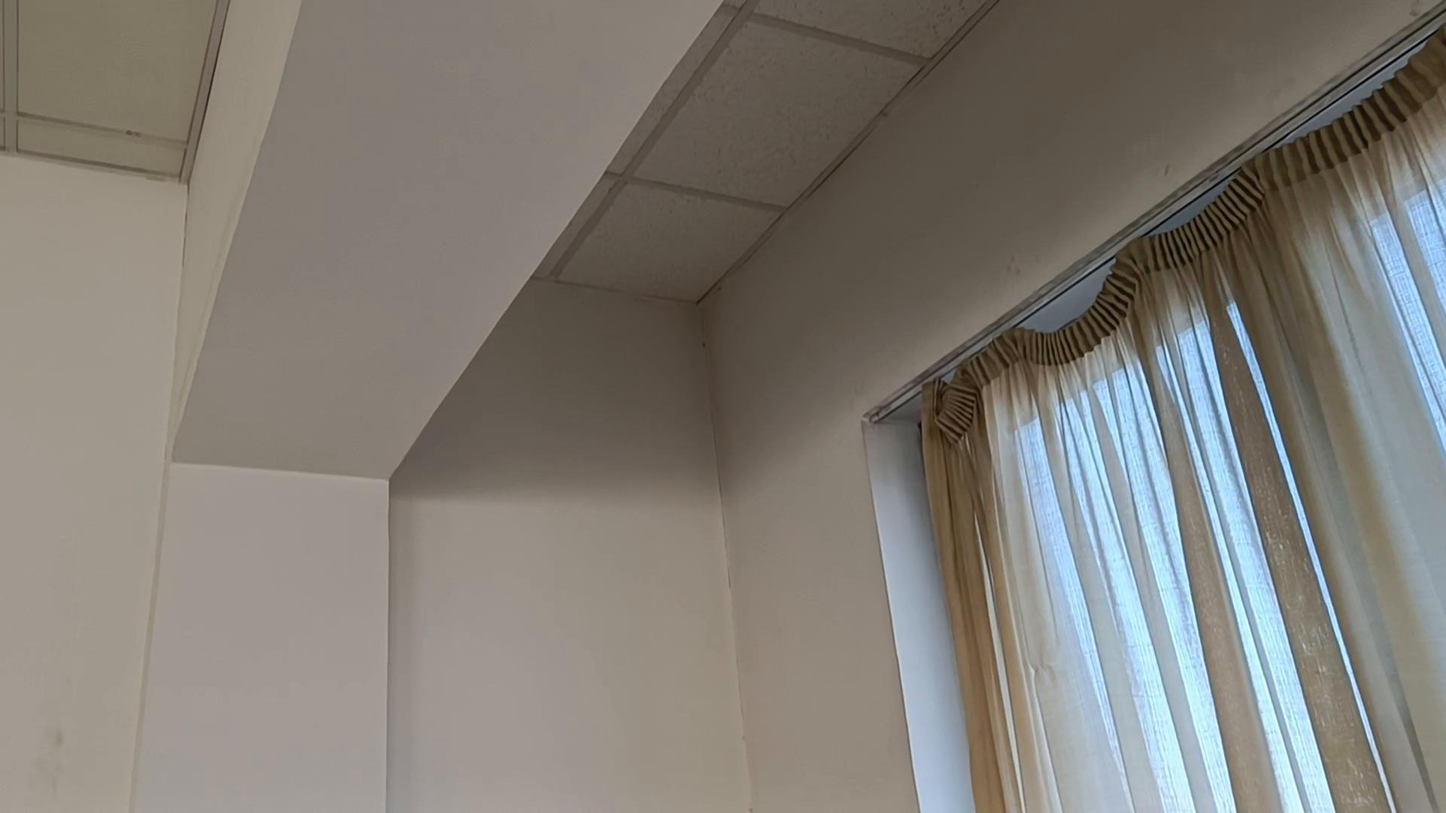ceiling: (0, 0, 725, 482), (1197, 0, 1429, 157), (1130, 143, 1220, 209)
pillar: (387, 282, 748, 812)
wall: (656, 0, 1438, 810), (0, 0, 734, 812)
